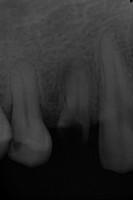Furcation Involvement: (60, 55, 75, 83)
